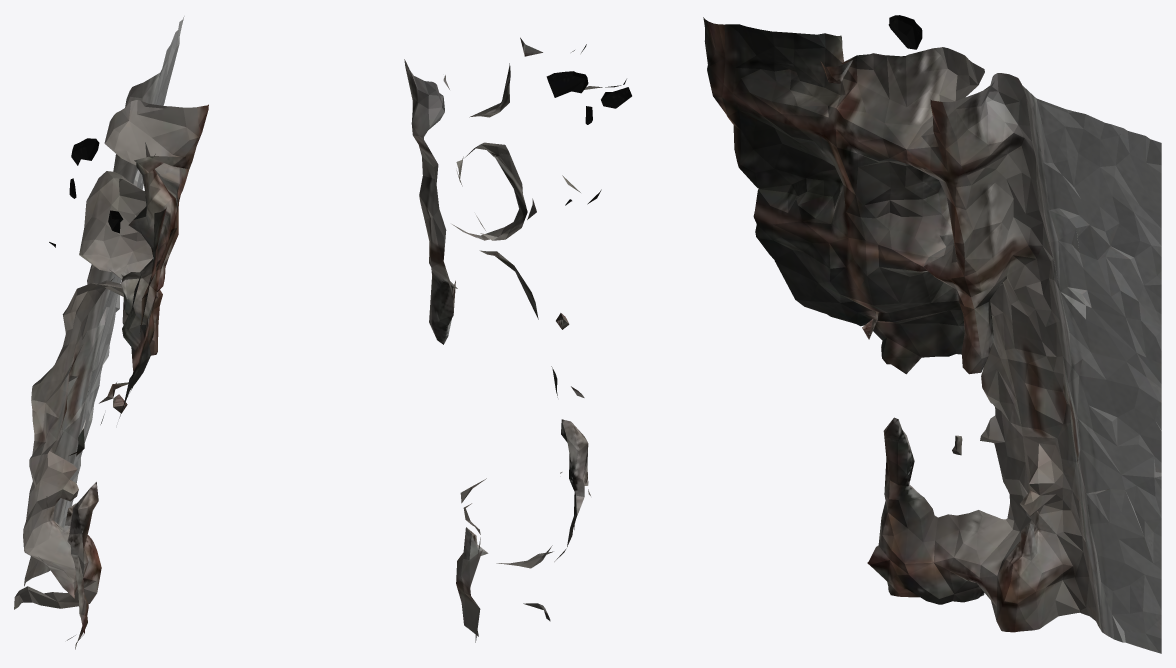
3 views of the same model, side by side, from view 1: azimuth 30°, elevation 25°; view 2: azimuth 150°, elevation 25°; view 3: azimuth 270°, elevation 25° (orthographic). The views are drawn at different scales.
Size of the model in its own units: 0.3983 by 0.8374 by 0.5984.
Materials: 2 (2 with a texture image).
